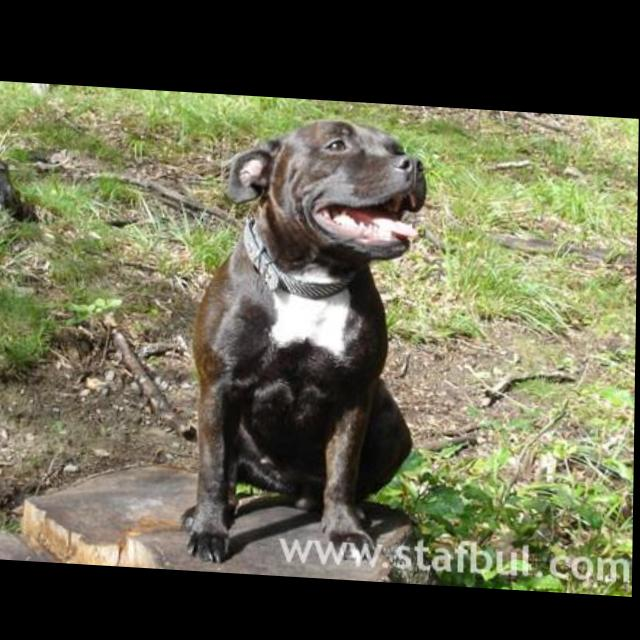staffford: (181, 109, 429, 572)
